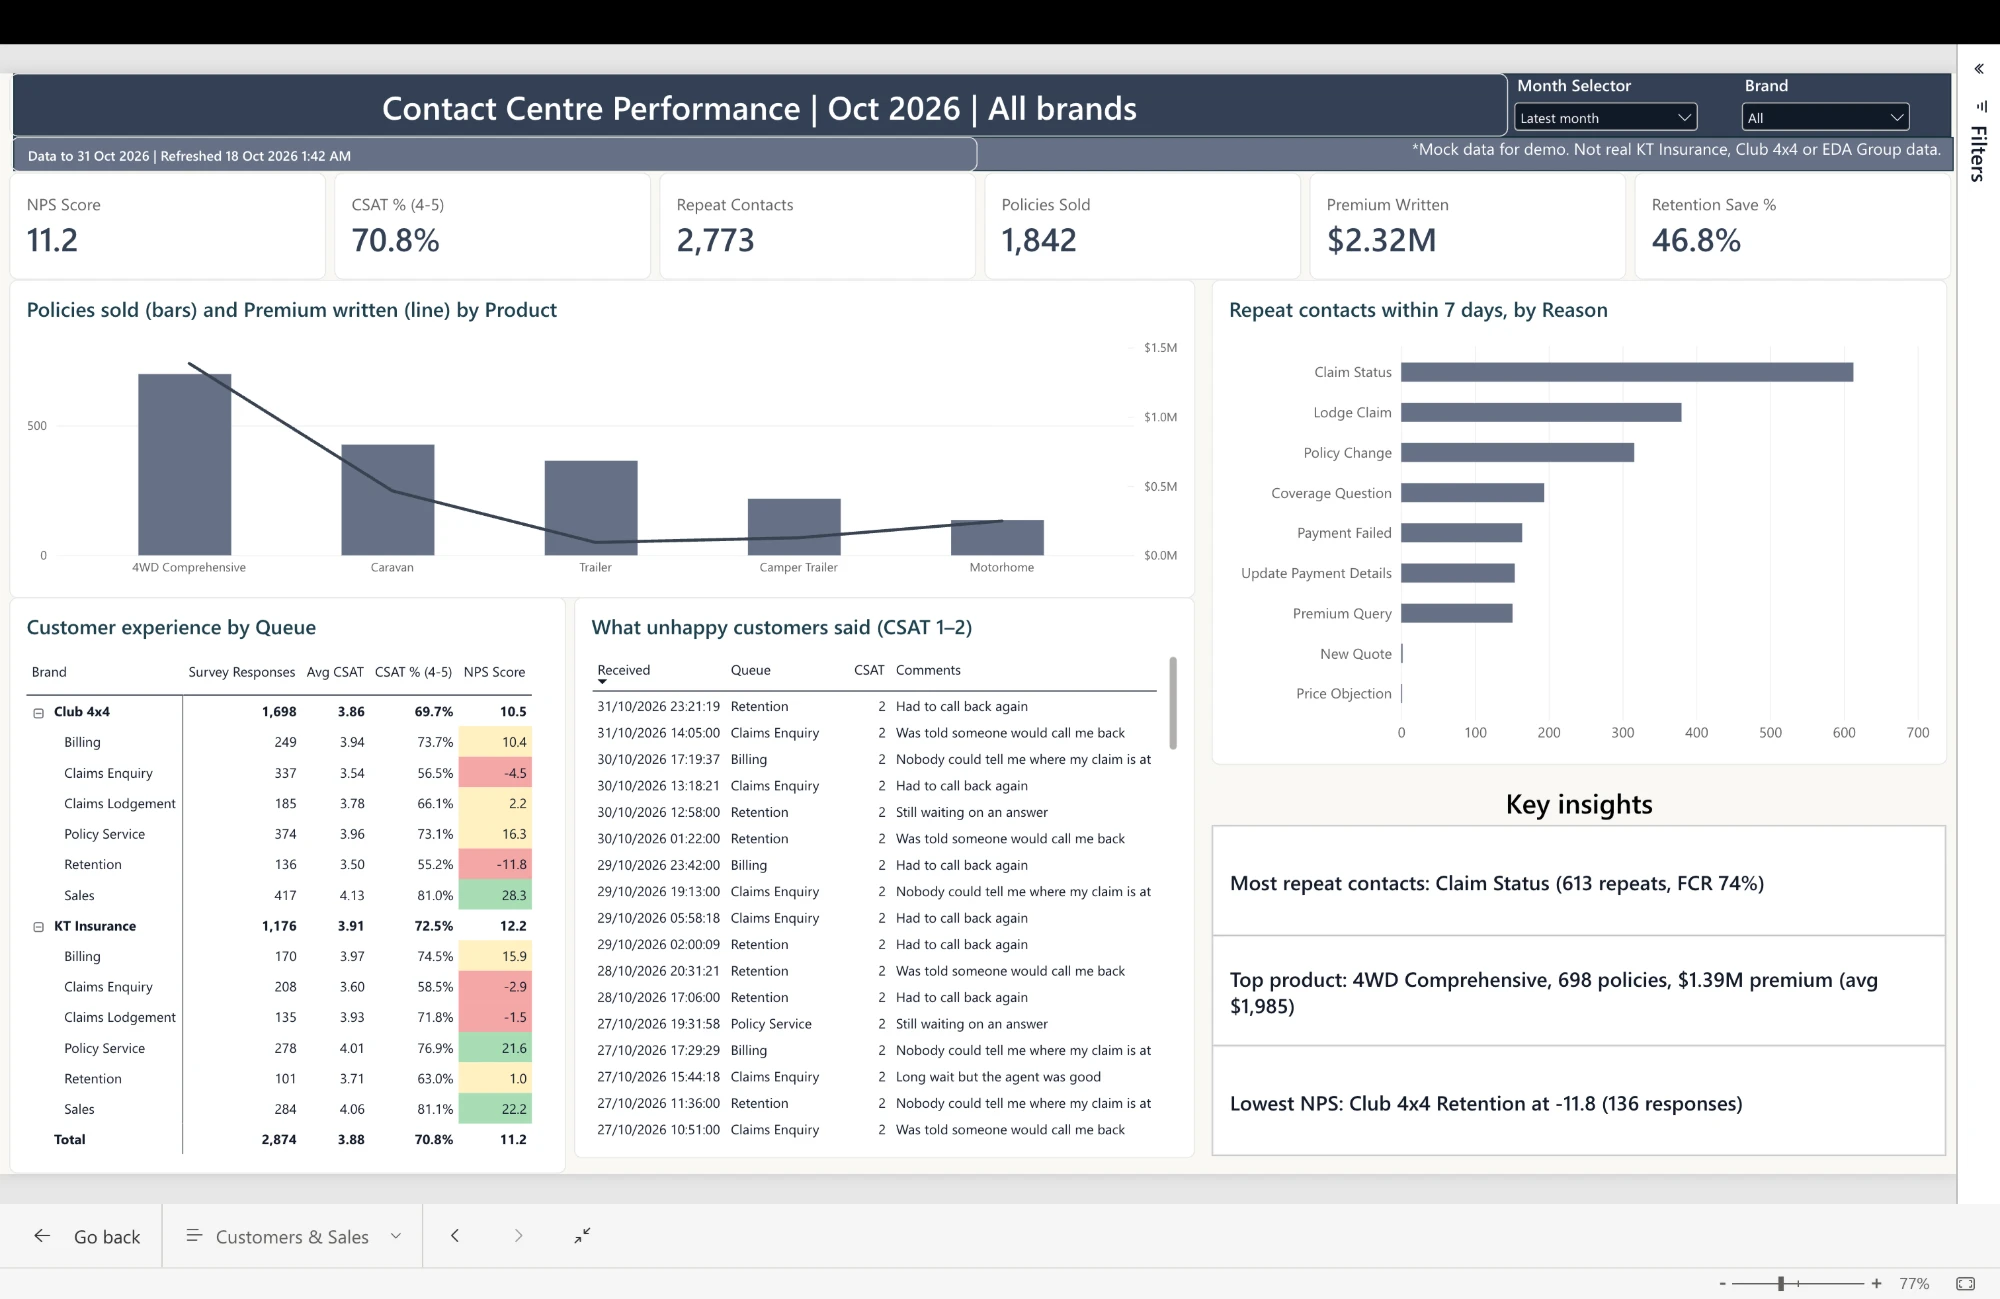

The dashboard page shown, as its layout file describes it:
{"tool":"powerbi","page":{"name":"Customers & Sales","canvas":[1920,1080],"ordinal":3},"visuals":[{"type":"shape","title":"Accent Bg","box":[13.4,62.5,1904.4,33.5],"z":0},{"type":"shape","title":"Header Bg","box":[13.4,0,1902.1,62.5],"z":1000},{"type":"slicer","fields":{"Values":["Date.Month Selector"]},"box":[1481,0,190,62.7],"z":2000},{"type":"slicer","fields":{"Values":["Queue.Brand"]},"box":[1704.2,0,175.2,62.7],"z":3000},{"type":"cardVisual","fields":{"Data":["Calls.Report Title"]},"box":[9.2,0,1471.8,62.7],"z":4000},{"type":"cardVisual","fields":{"Data":["Calls.Data As At"]},"box":[10.1,62.3,949.3,34.2],"z":5000},{"type":"cardVisual","fields":{"Data":["Surveys.NPS Score","Surveys.CSAT % (4-5)","Interactions.Repeat Contacts","Interactions.Policies Sold","Interactions.Premium Written","Interactions.Retention Save %"]},"box":[9.2,97.8,1907.1,105.1],"z":5001},{"type":"clusteredBarChart","title":"Repeat contacts within 7 days, by Reason","fields":{"Category":["Interactions.contact_reason"],"Y":["Interactions.Repeat Contacts"]},"box":[1188.6,201.9,721.9,476.2],"z":5002},{"type":"lineClusteredColumnComboChart","title":"Policies sold (bars) and Premium written (line) by Product","fields":{"Category":["Interactions.product"],"Y":["Interactions.Policies Sold"],"Y2":["Interactions.Premium Written"]},"box":[9.5,201.9,1163.8,312.4],"z":5003},{"type":"pivotTable","title":"Customer experience by Queue","fields":{"Rows":["Queue.Brand","Queue.Queue"],"Values":["Surveys.Survey Responses","Surveys.Avg CSAT","Surveys.CSAT % (4-5)","Surveys.NPS Score"]},"box":[9.5,514.3,546.7,565.7],"z":5004},{"type":"tableEx","title":"What unhappy customers said (CSAT 1–2)","fields":{"Values":["Surveys.response_ts_local","Queue.Queue","Surveys.csat","Surveys.verbatim"]},"box":[563.8,514.3,609.5,550.5],"z":5005},{"type":"cardVisual","title":"Key insights","fields":{"Data":["Calls.Top Repeat Reason","Calls.Top Product","Calls.Lowest NPS Queue"]},"box":[1188.6,697.1,721.9,367.6],"z":5006},{"type":"textbox","box":[961.3,62.3,943.2,34.2],"z":5007}]}

Visuals, with their boxes on the page's 1920x1080 design canvas (x1, y1, x2, y2). These are canvas units, not pixel positions in the 2000x1299 screenshot, which may show the page scaled, cropped or inside an application window:
"Accent Bg" shape: pyautogui.locateOnScreen(13, 62, 1918, 96)
"Header Bg" shape: pyautogui.locateOnScreen(13, 0, 1916, 62)
slicer - Date.Month Selector: pyautogui.locateOnScreen(1481, 0, 1671, 63)
slicer - Queue.Brand: pyautogui.locateOnScreen(1704, 0, 1879, 63)
cardVisual - Calls.Report Title: pyautogui.locateOnScreen(9, 0, 1481, 63)
cardVisual - Calls.Data As At: pyautogui.locateOnScreen(10, 62, 959, 96)
cardVisual - Surveys.NPS Score x Surveys.CSAT % (4-5): pyautogui.locateOnScreen(9, 98, 1916, 203)
"Repeat contacts within 7 days, by Reason" clusteredBarChart: pyautogui.locateOnScreen(1189, 202, 1910, 678)
"Policies sold (bars) and Premium written (line) by Product" lineClusteredColumnComboChart: pyautogui.locateOnScreen(10, 202, 1173, 514)
"Customer experience by Queue" pivotTable: pyautogui.locateOnScreen(10, 514, 556, 1080)
"What unhappy customers said (CSAT 1–2)" tableEx: pyautogui.locateOnScreen(564, 514, 1173, 1065)
"Key insights" cardVisual: pyautogui.locateOnScreen(1189, 697, 1910, 1065)
textbox: pyautogui.locateOnScreen(961, 62, 1904, 96)
